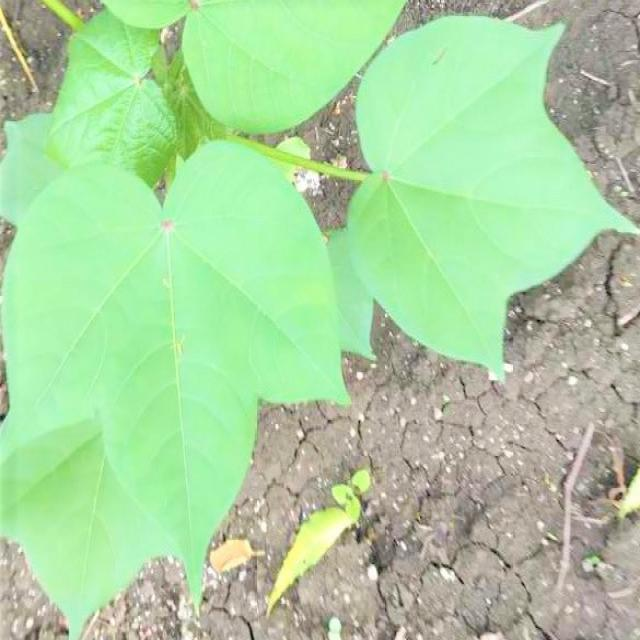Healthy Leaf: (33, 147, 341, 540)
